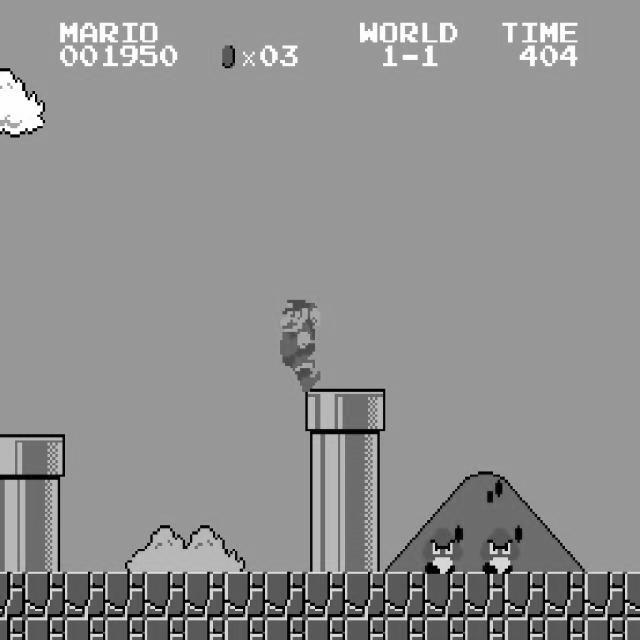0- big_mario: (277, 298, 320, 392)
14- pipe: (24, 480, 66, 526), (24, 526, 66, 572), (304, 434, 346, 480), (304, 480, 346, 526), (304, 526, 346, 572), (344, 434, 386, 480), (344, 480, 386, 526), (344, 526, 386, 572), (0, 525, 25, 571), (0, 480, 25, 525)
15- pipe_head: (24, 434, 66, 480), (304, 388, 346, 434), (344, 388, 386, 434), (0, 434, 25, 479)
17- undestructible_block: (24, 572, 66, 618), (64, 572, 106, 618), (104, 572, 146, 618), (144, 572, 186, 618), (184, 572, 226, 618), (224, 572, 266, 618), (264, 572, 306, 618), (304, 572, 346, 618), (344, 572, 386, 618), (384, 572, 426, 618), (424, 572, 466, 618), (464, 572, 506, 618), (504, 572, 546, 618), (544, 572, 586, 618), (584, 572, 626, 618), (0, 571, 25, 617), (24, 617, 66, 640), (64, 617, 106, 640), (104, 617, 146, 640), (144, 617, 186, 640), (184, 617, 226, 640), (224, 617, 266, 640), (264, 617, 306, 640), (304, 617, 346, 640), (344, 617, 386, 640), (384, 617, 426, 640), (424, 617, 466, 640), (464, 617, 506, 640), (504, 617, 546, 640), (544, 617, 586, 640), (584, 617, 626, 640), (625, 572, 640, 618), (0, 617, 25, 639), (625, 617, 640, 640)
8- goomba: (420, 526, 463, 574), (478, 526, 520, 574)
